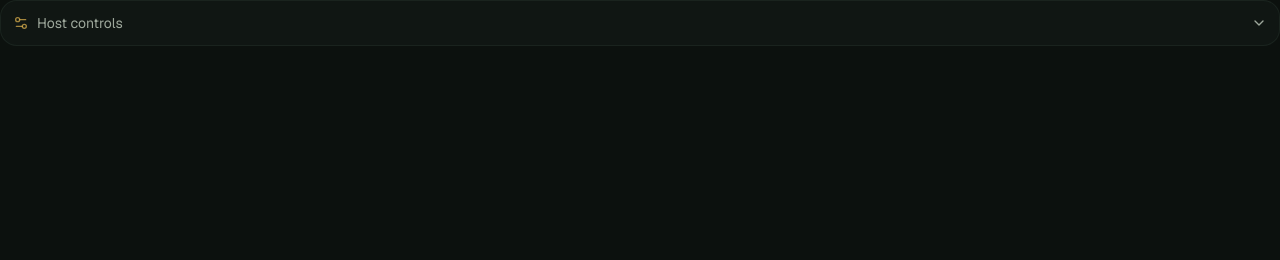
Test: accountless host continuity › creates and saves a one-time backup code
The width and height of the screenshot is (1280, 260).
What coordinates should you click on to do the following:
click the heading "Host controls"
I would click on:
 (80, 23)
Its box is [13,14,1267,32].
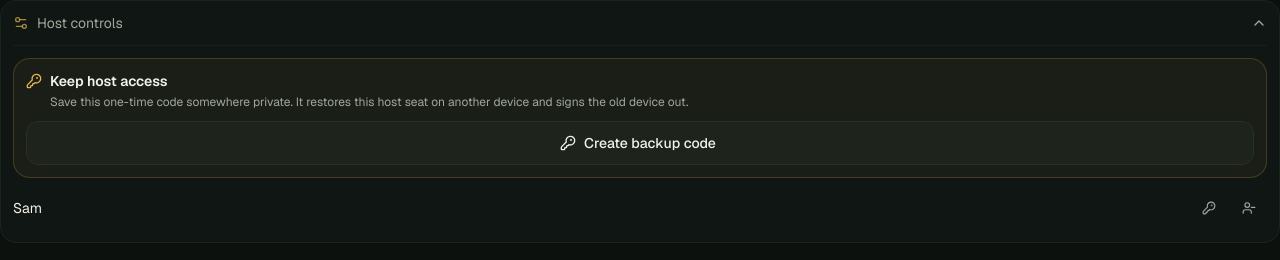
What coordinates should you click on to do the following:
click the button "Create backup code"
I would click on:
 (640, 142)
Its box is [26,120,1254,164].
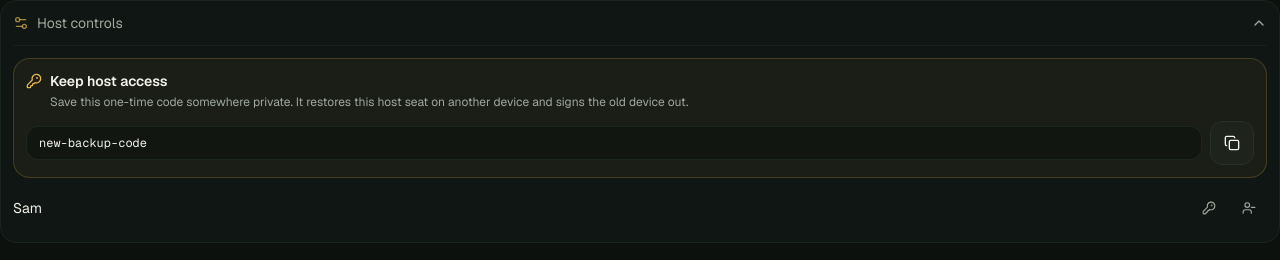
Expected: the text "new-backup-code" is shown, [26,126,1202,160]
